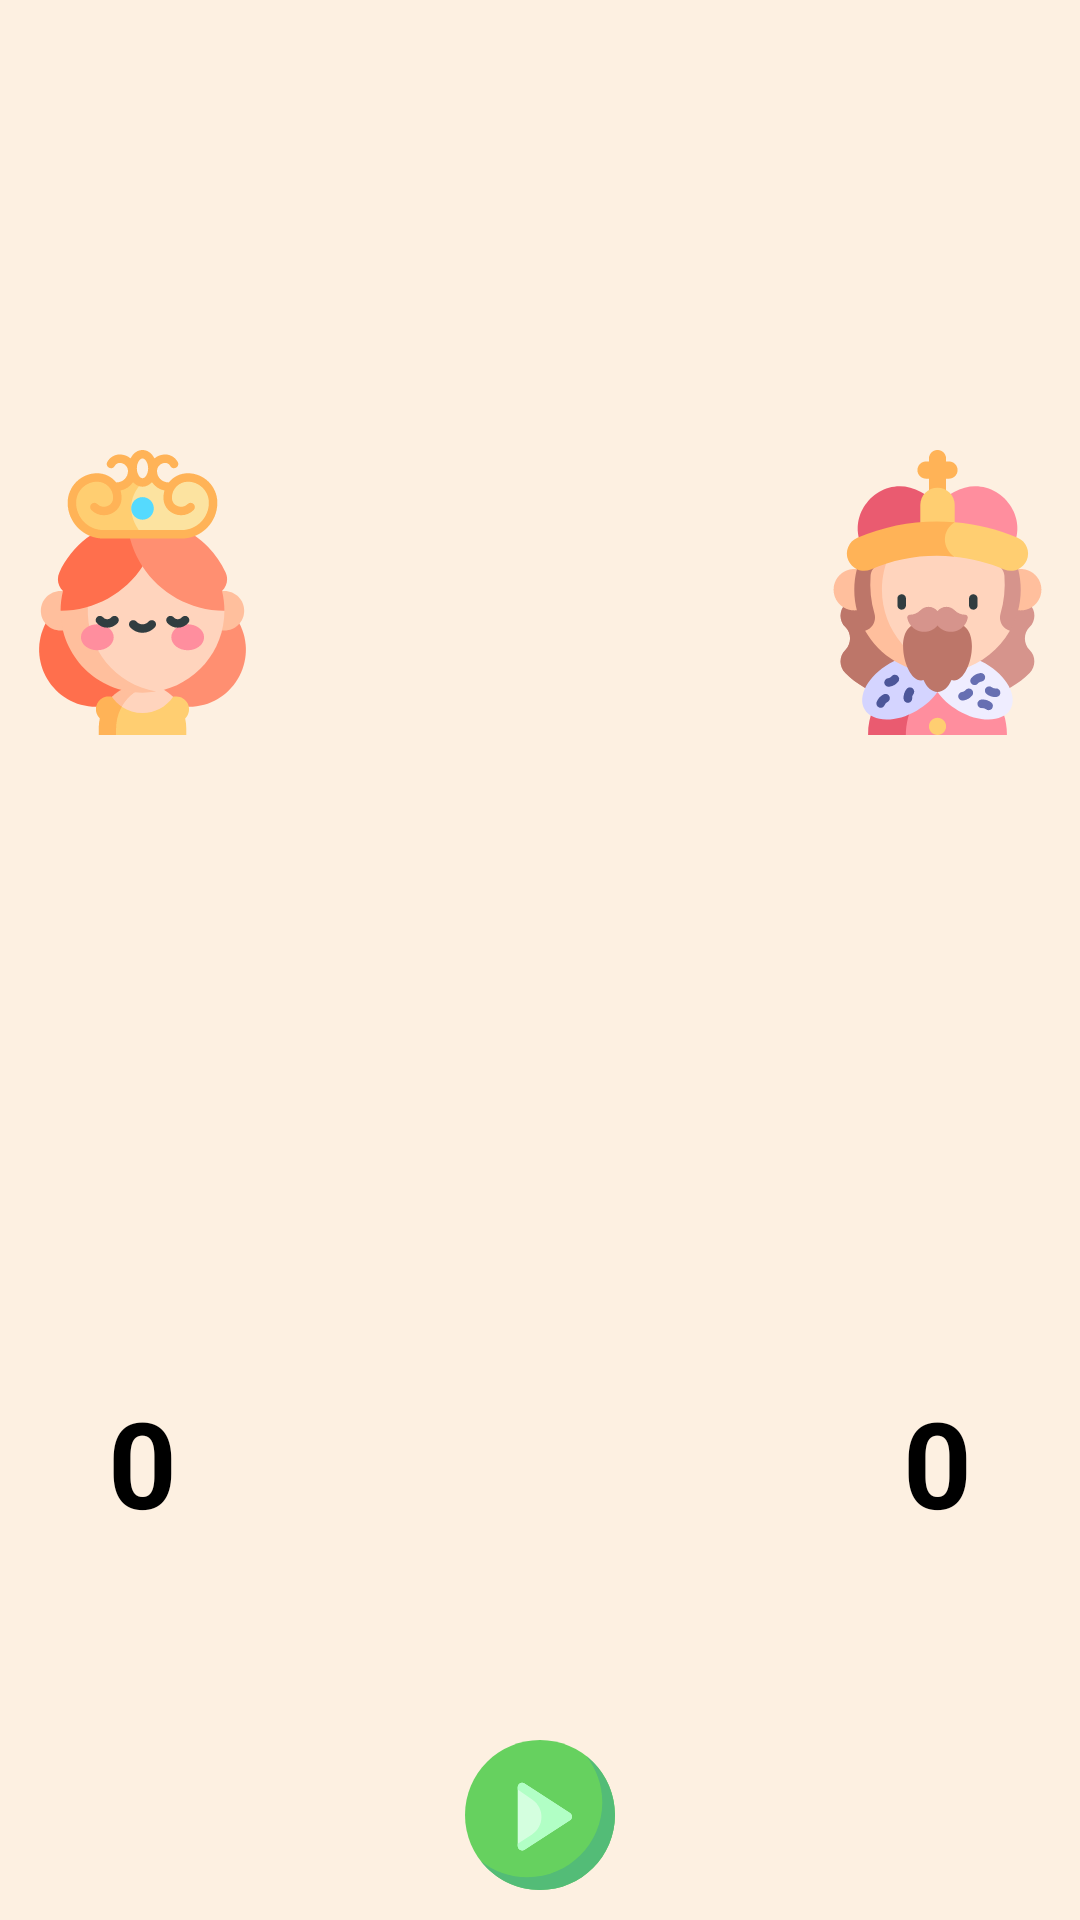

Where icons sit on this 1080 × 1920 app screen, as (x1, y1, x2, y2):
king: (833, 450, 1042, 735)
play: (465, 1740, 615, 1890)
queen: (39, 450, 246, 735)
